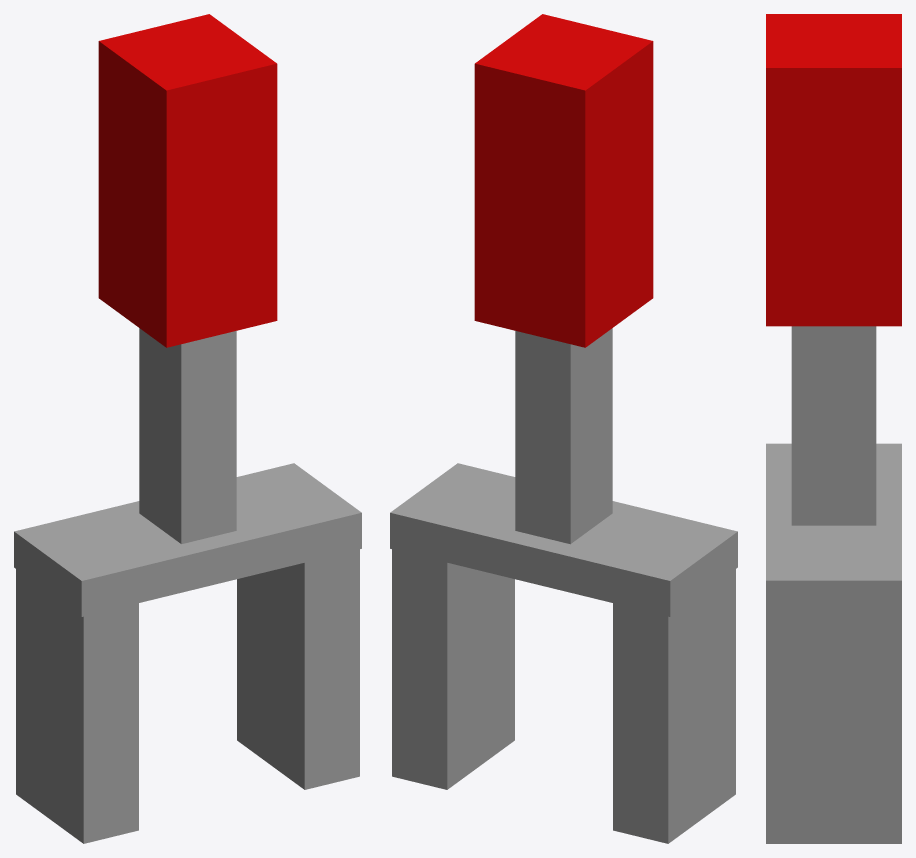
File: Lever.fbx
The picture shows the model from 3 angles, left to right: view 1: azimuth 30°, elevation 25°; view 2: azimuth 150°, elevation 25°; view 3: azimuth 270°, elevation 25°; orthographic projection.
Visible parts, largest first — view 1: Cube (2); view 2: Cube (2); view 3: Cube (2).
Boxes of the visible parts, x1,y1,x2,y2 form: Cube (2): (14,14,361,843); Cube (2): (390,14,737,843); Cube (2): (766,14,901,843).
Size of the model in its own units: 11.39 by 28.49 by 4.77.
